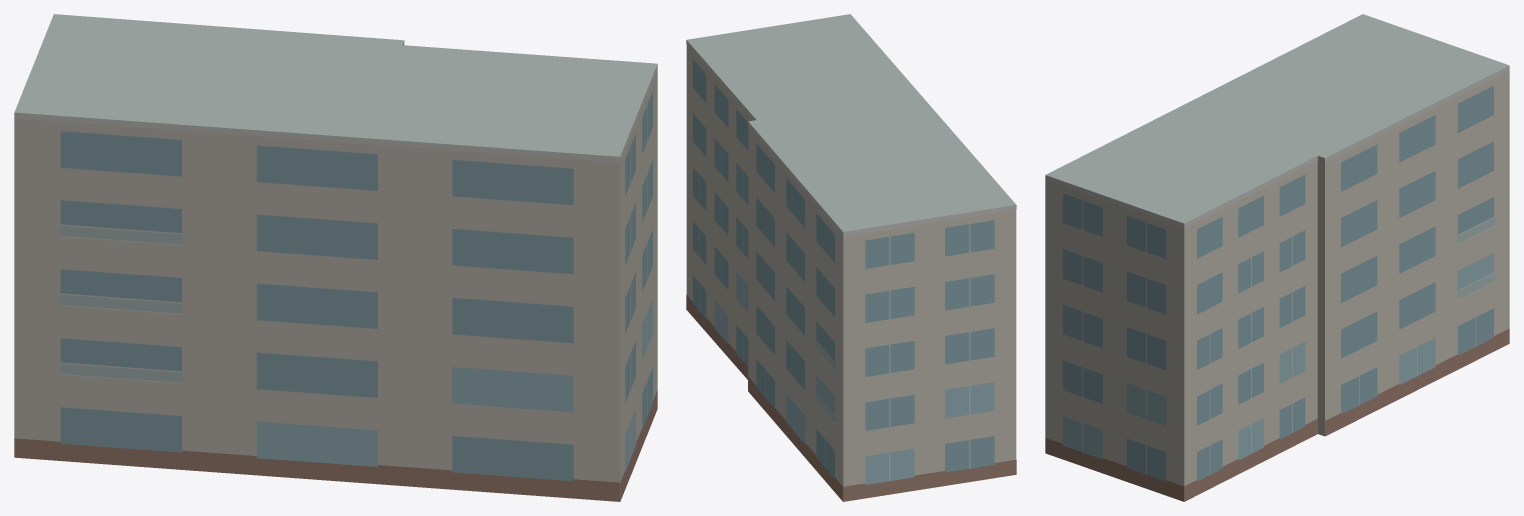
The model's file is survey-upis-32659952.glb.
The picture shows the model from 3 angles, left to right: view 1: azimuth 30°, elevation 25°; view 2: azimuth 150°, elevation 25°; view 3: azimuth 270°, elevation 25°; orthographic projection. The views are drawn at different scales.
Visible parts, largest first — view 1: survey-upis-32659952.tmp; view 2: survey-upis-32659952.tmp; view 3: survey-upis-32659952.tmp.
Part boxes in pixels (<box>): survey-upis-32659952.tmp: <box>14,14,657,501</box>; survey-upis-32659952.tmp: <box>686,14,1016,501</box>; survey-upis-32659952.tmp: <box>1045,14,1509,501</box>.
Size of the model in its own units: 23.18 by 14.35 by 21.71.
